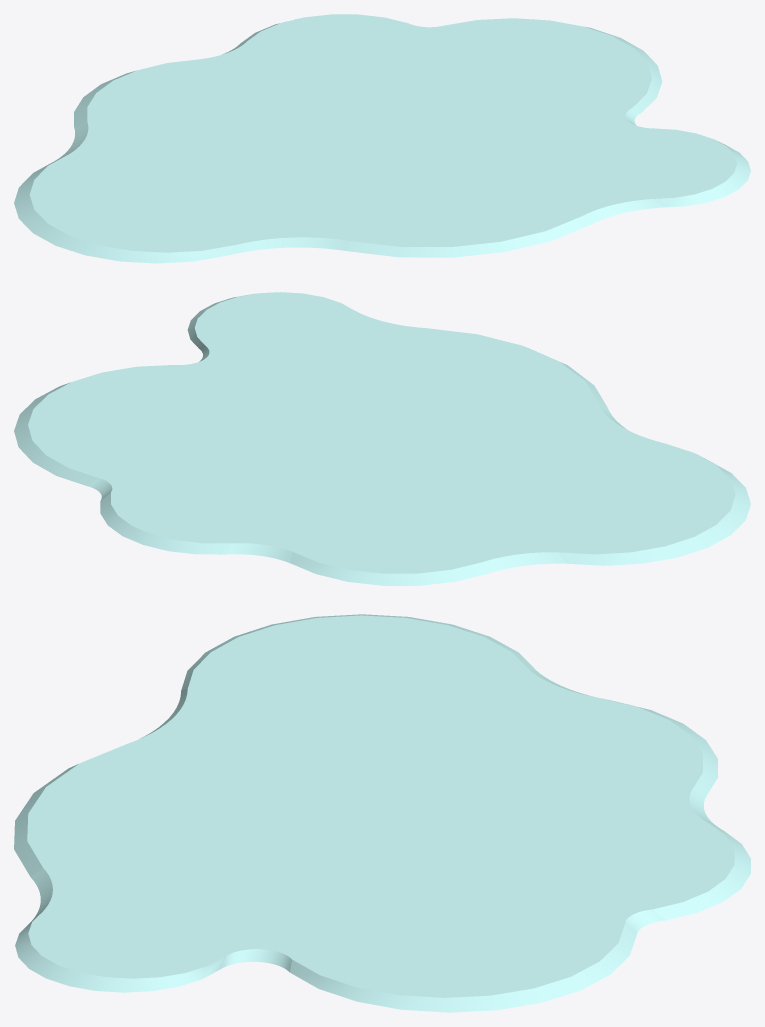
The model's file is snowPatch.fbx.
3 views of the same model, one above another, from view 1: azimuth 30°, elevation 25°; view 2: azimuth 150°, elevation 25°; view 3: azimuth 270°, elevation 25° (orthographic). The views are drawn at different scales.
Parts seen in each view (by area): view 1: snowPatch; view 2: snowPatch; view 3: snowPatch.
Boxes of the visible parts, x1,y1,x2,y2 form: snowPatch: [14, 14, 750, 263]; snowPatch: [14, 292, 750, 585]; snowPatch: [14, 614, 750, 1012].
Size of the model in its own units: 32.58 by 0.3 by 25.47.
